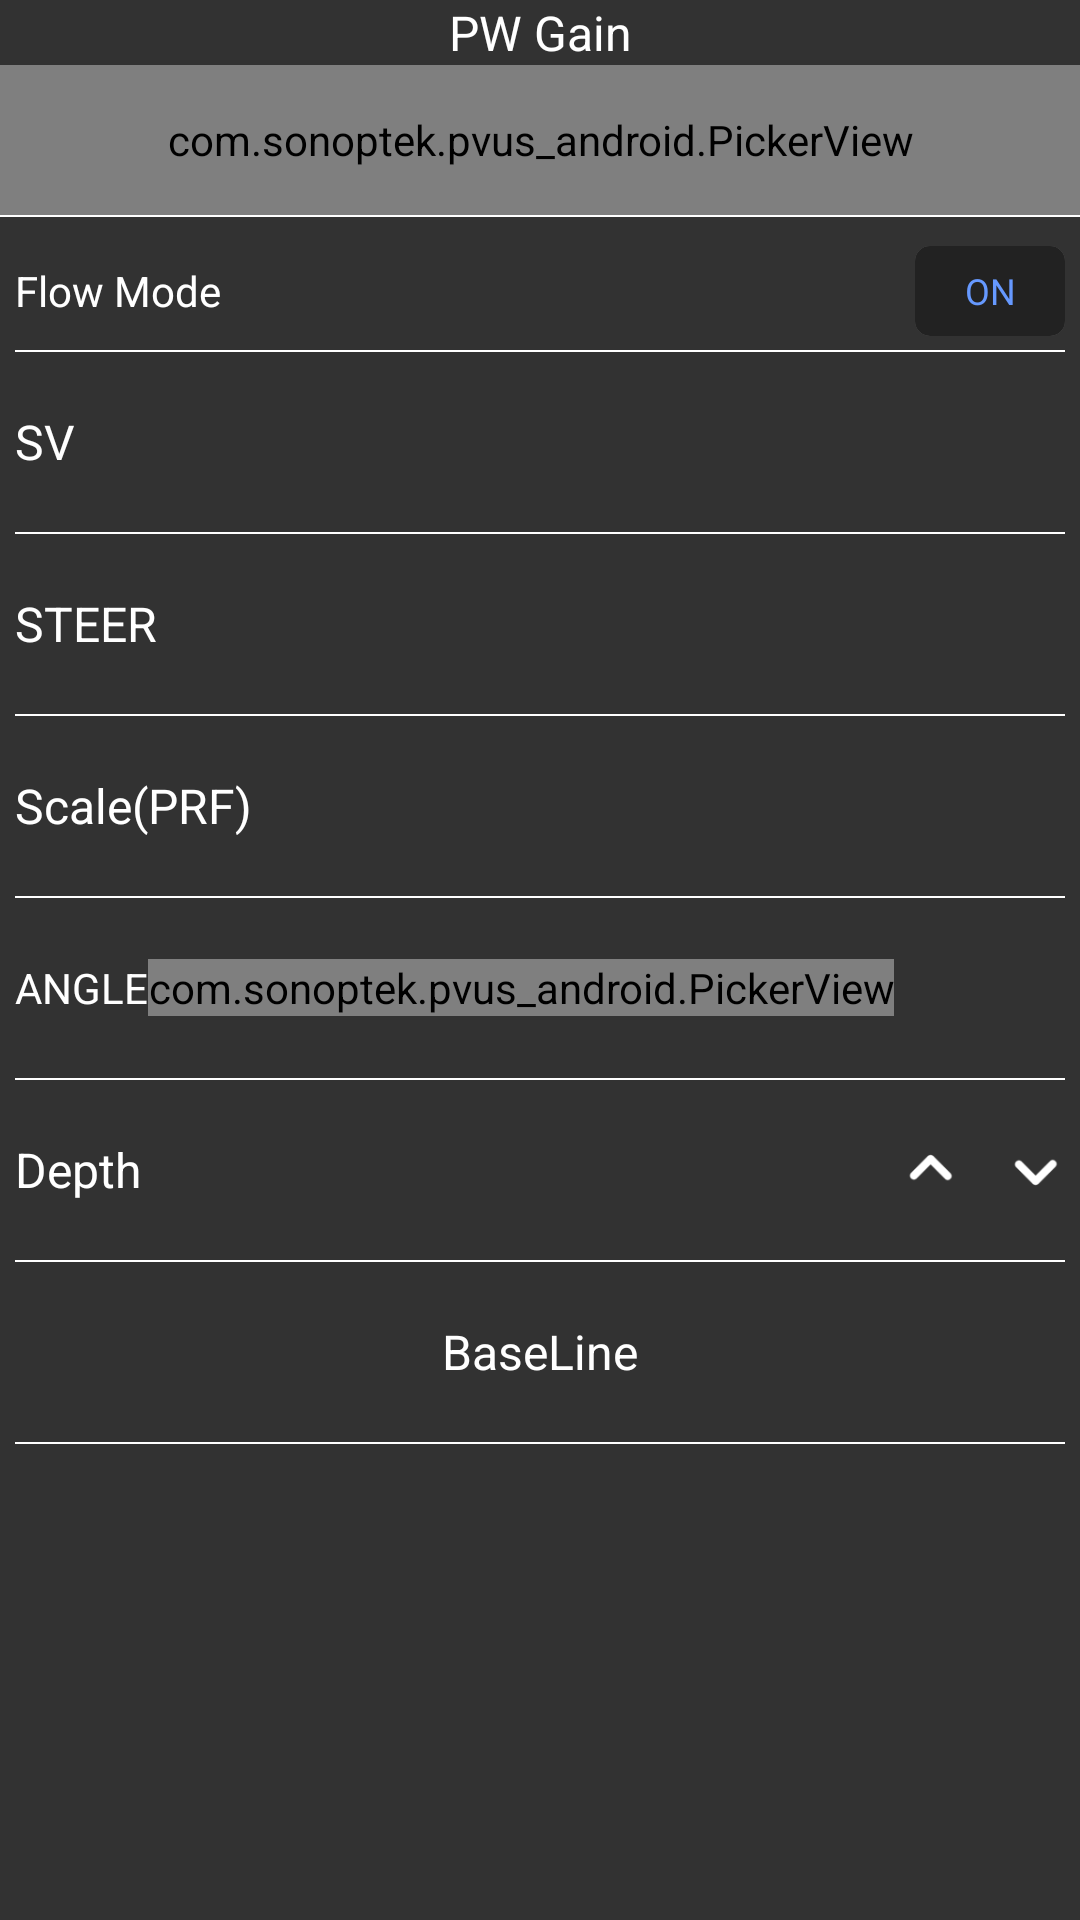

Screen size 1080×1920. Icon name, then its box in pixels as (x1, y1, x2, y2):
chevron down: (1014, 1159, 1057, 1185)
chevron up: (909, 1155, 952, 1181)
